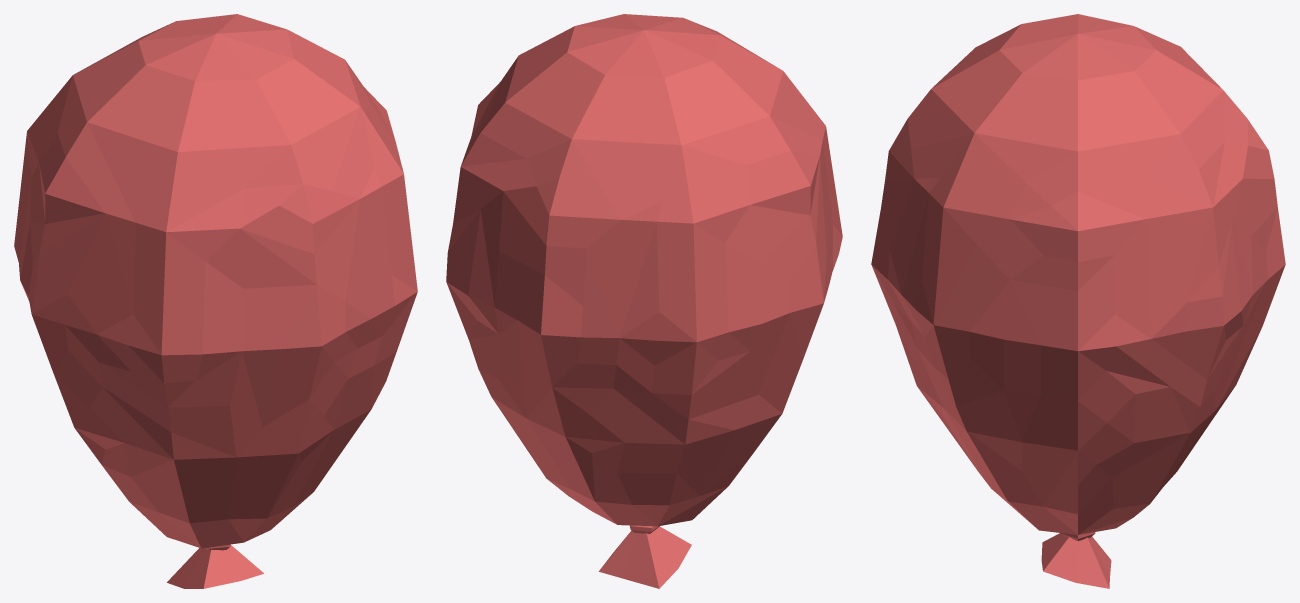
Rendered from Geo_balloon_2.fbx.
The picture shows the model from 3 angles, left to right: view 1: azimuth 30°, elevation 25°; view 2: azimuth 150°, elevation 25°; view 3: azimuth 270°, elevation 25°; orthographic projection. The views are drawn at different scales.
Visible parts, largest first — view 1: Geo_Balloon_2; view 2: Geo_Balloon_2; view 3: Geo_Balloon_2.
Boxes of the visible parts, x1,y1,x2,y2 form: Geo_Balloon_2: [14, 14, 417, 588]; Geo_Balloon_2: [446, 14, 842, 588]; Geo_Balloon_2: [871, 14, 1285, 588].
Bounding box in the file's own units: 30.59 × 44.11 × 30.57.
